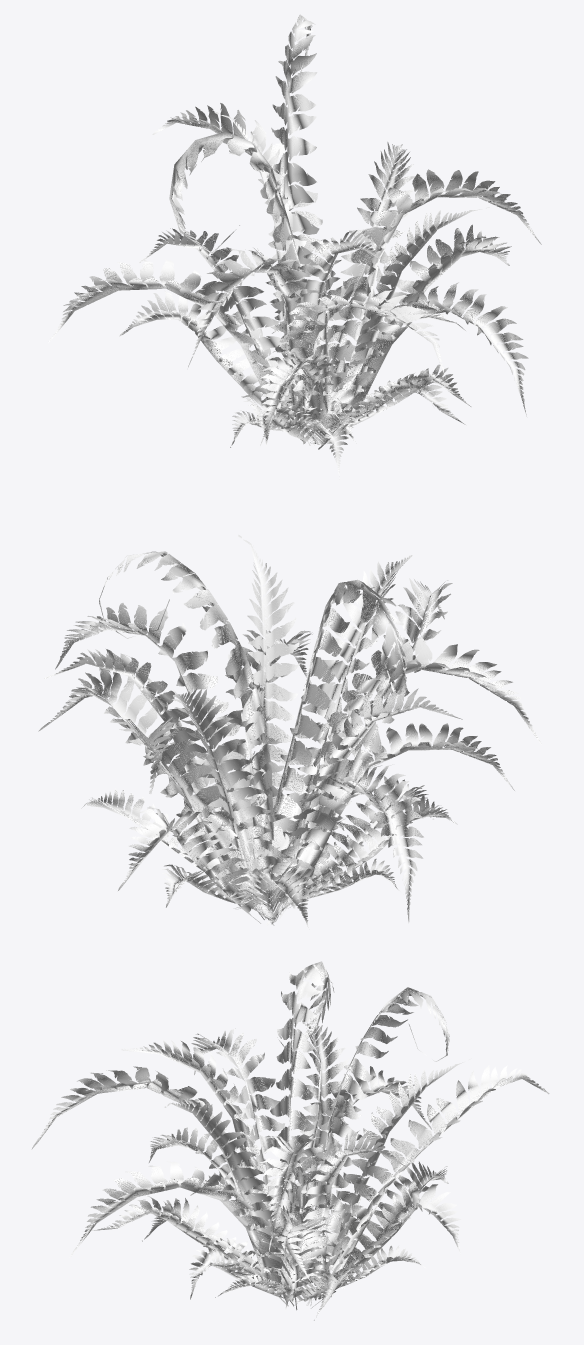
Rendered from Boston.fbx.
The picture shows the model from 3 angles, top to bottom: view 1: azimuth 30°, elevation 25°; view 2: azimuth 150°, elevation 25°; view 3: azimuth 270°, elevation 25°; orthographic projection. The views are drawn at different scales.
Parts seen in each view (by area): view 1: leaf; view 2: leaf; view 3: leaf.
Part boxes in pixels (x1,y1,x2,y2): leaf: (48, 14, 541, 479); leaf: (38, 535, 541, 929); leaf: (31, 961, 549, 1320).
Bounding box in the file's own units: 269 × 201 × 300.
1 material, 1 textured.
